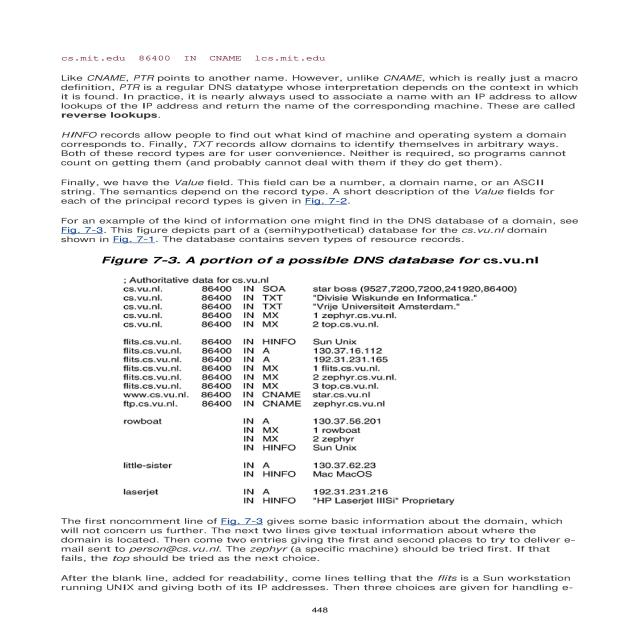diagram: (90, 244, 555, 508)
